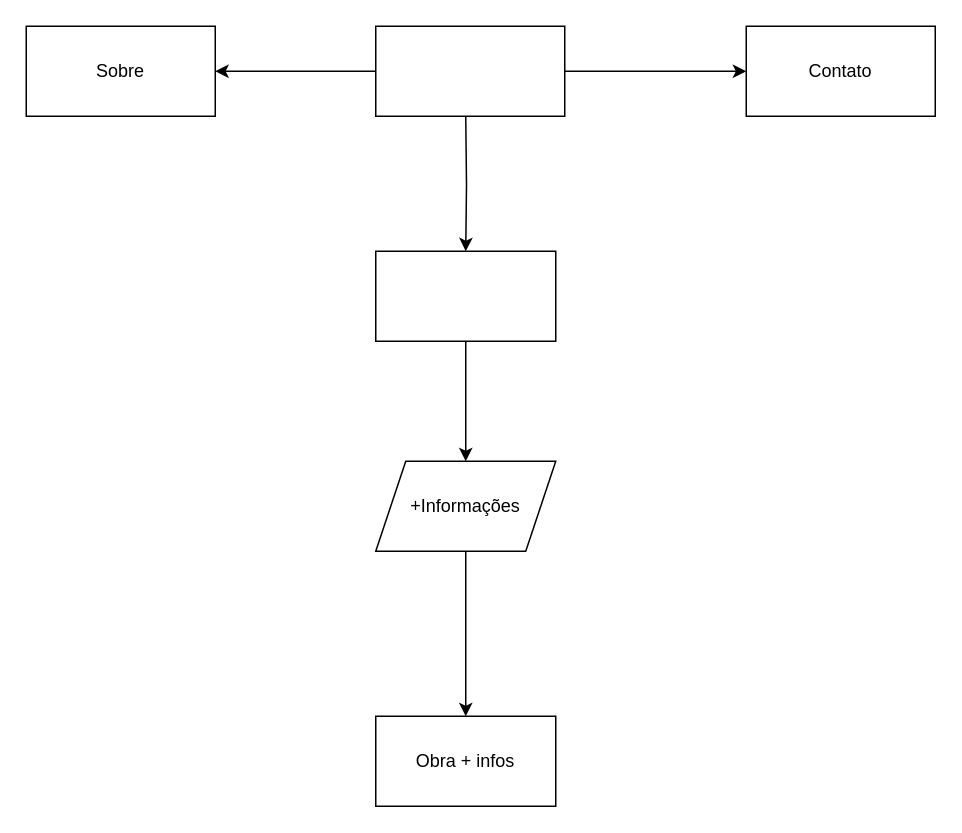
Some shapes in this 962 by 833 pixel diagram are drawn without their labels. The shapes that lost their labels are listed below. From the top down, each one's centre as x and y in pixels, then its label:
At point 469,70: "Home".
At point 465,295: "Obra clicada é expandida".
